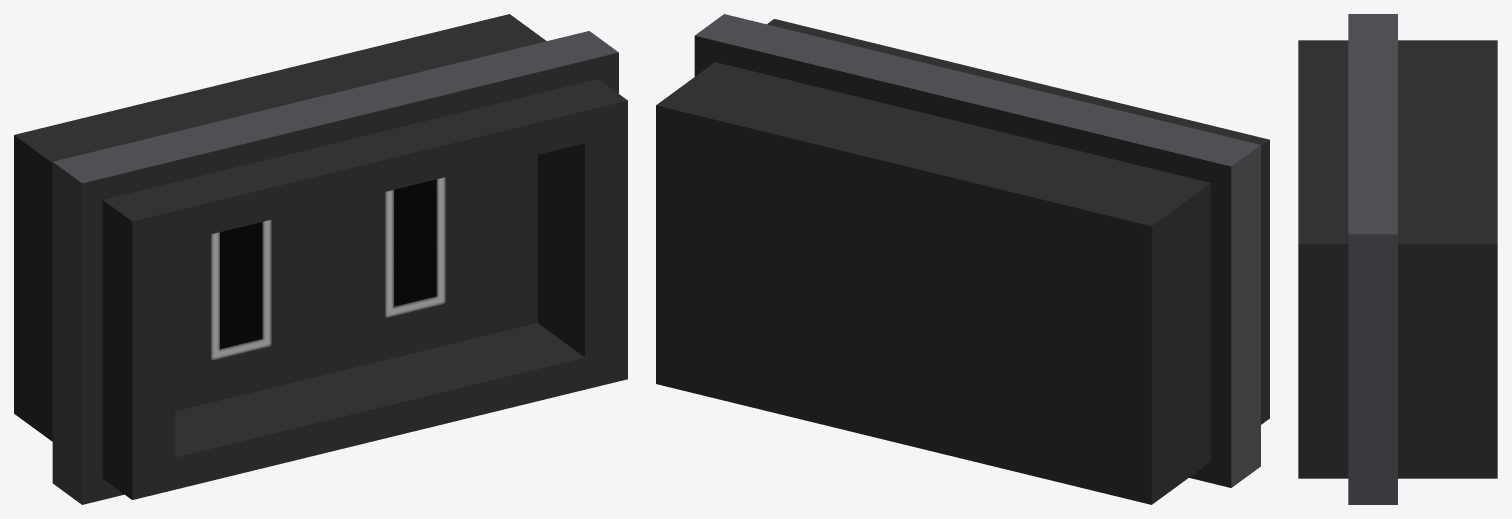
File: Socket for plug 1.gltf
The picture shows the model from 3 angles, left to right: view 1: azimuth 30°, elevation 25°; view 2: azimuth 150°, elevation 25°; view 3: azimuth 270°, elevation 25°; orthographic projection. The views are drawn at different scales.
Visible parts, largest first — view 1: node-0; view 2: node-0; view 3: node-0.
Part boxes in pixels (x1,y1,x2,y2): node-0: (14,14,627,504); node-0: (656,14,1269,504); node-0: (1298,14,1497,504).
Size of the model in its own units: 262 by 150 by 100.
1 material, 1 textured.
